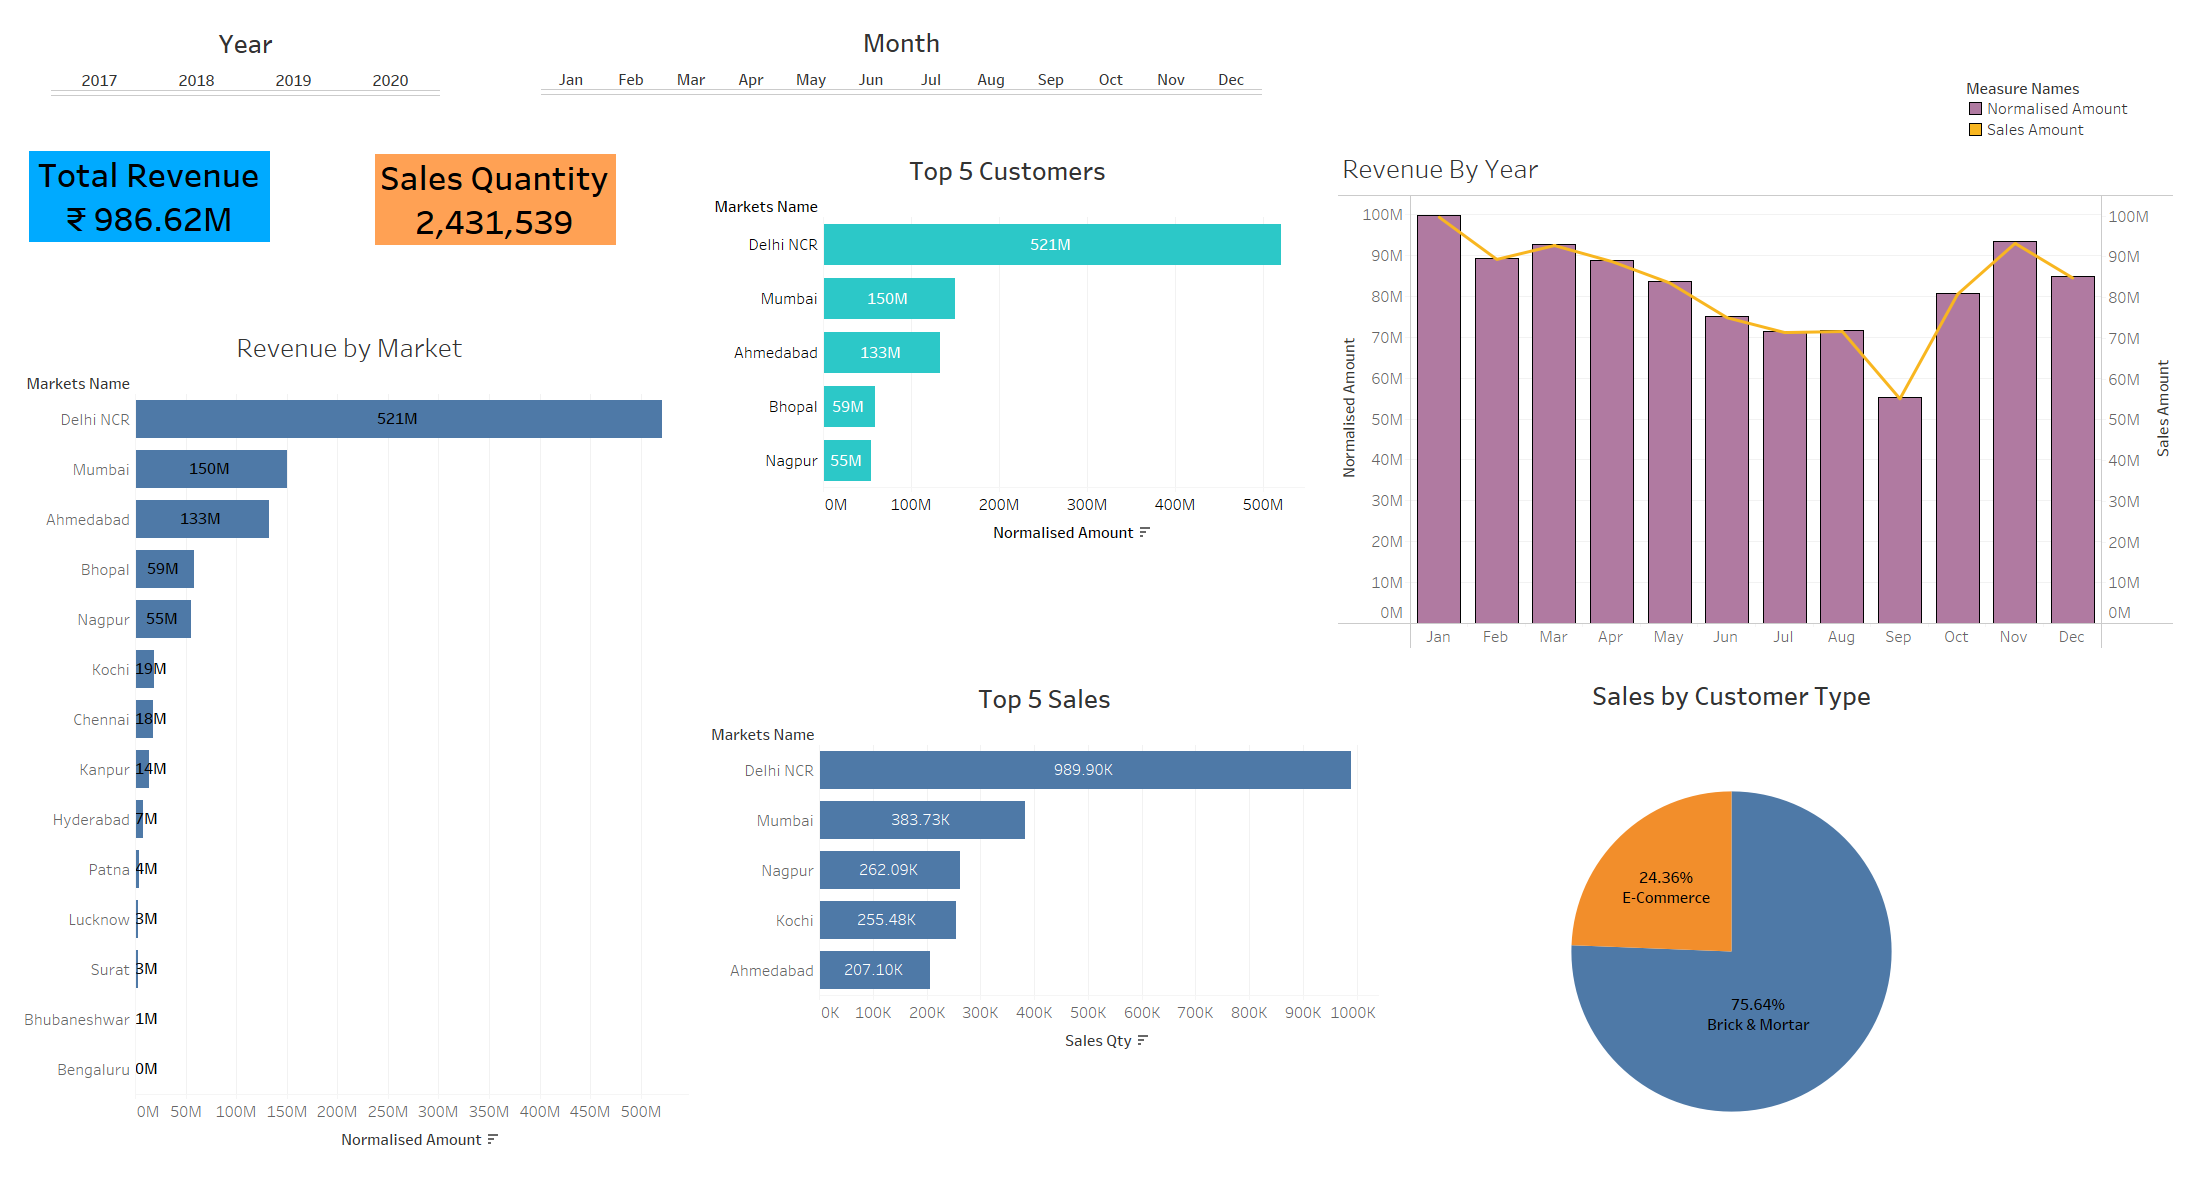

What the dashboard file says about the page in this screenshot:
{"tool":"tableau","page":{"name":"Sales Insights","canvas":[2200,1200],"ordinal":0},"visuals":[{"type":"worksheet","title":"Month","mark":"Automatic","cols":["cy_date"],"box":[541.4,18.7,1003.4,132]},{"type":"worksheet","title":"Year","mark":"Automatic","cols":["cy_date"],"box":[51.3,20,498.7,146.7]},{"type":"legend","title":"Revenue By Year","param":"[federated.02wfoec14s5occ12v7zxn1rlw1wv].[:Measure Names]","box":[1965.3,76,205.3,85.3]},{"type":"worksheet","title":"Total Revenue","mark":"Automatic","box":[28.9,136,378.1,168]},{"type":"worksheet","title":"Total Sales","mark":"Automatic","box":[375.4,138.7,363,168]},{"type":"worksheet","title":"Revenue By Year","mark":"Bar","rows":["Calculation_1201053784450842624","sales_amount"],"cols":["cy_date"],"box":[1338,145,836,504]},{"type":"worksheet","title":"Top 5 Customers","mark":"Automatic","rows":["markets_name"],"cols":["Calculation_1201053784450842624"],"box":[711,147,593,522]},{"type":"worksheet","title":"Revenue by Market","mark":"Automatic","rows":["markets_name"],"cols":["Calculation_1201053784450842624"],"box":[11,324,676.5,858.7]},{"type":"worksheet","title":"Sales by Customer Type","mark":"Pie","box":[1478.9,672,504.8,509.3]}]}

Visuals, with their boxes in screenshot pixels (x1, y1, x2, y2), scaled from the page's 2200x1200 canvas onto the 2200x1200 screenshot:
"Month" worksheet: left=541, top=19, right=1545, bottom=151
"Year" worksheet: left=51, top=20, right=550, bottom=167
"Revenue By Year" legend: left=1965, top=76, right=2171, bottom=161
"Total Revenue" worksheet: left=29, top=136, right=407, bottom=304
"Total Sales" worksheet: left=375, top=139, right=738, bottom=307
"Revenue By Year" worksheet (Bar marks): left=1338, top=145, right=2174, bottom=649
"Top 5 Customers" worksheet: left=711, top=147, right=1304, bottom=669
"Revenue by Market" worksheet: left=11, top=324, right=688, bottom=1183
"Sales by Customer Type" worksheet (Pie marks): left=1479, top=672, right=1984, bottom=1181
